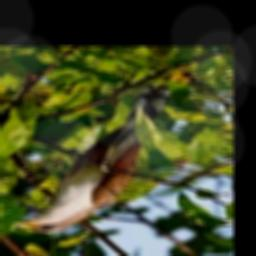Cuckoo: (11, 83, 171, 233)
